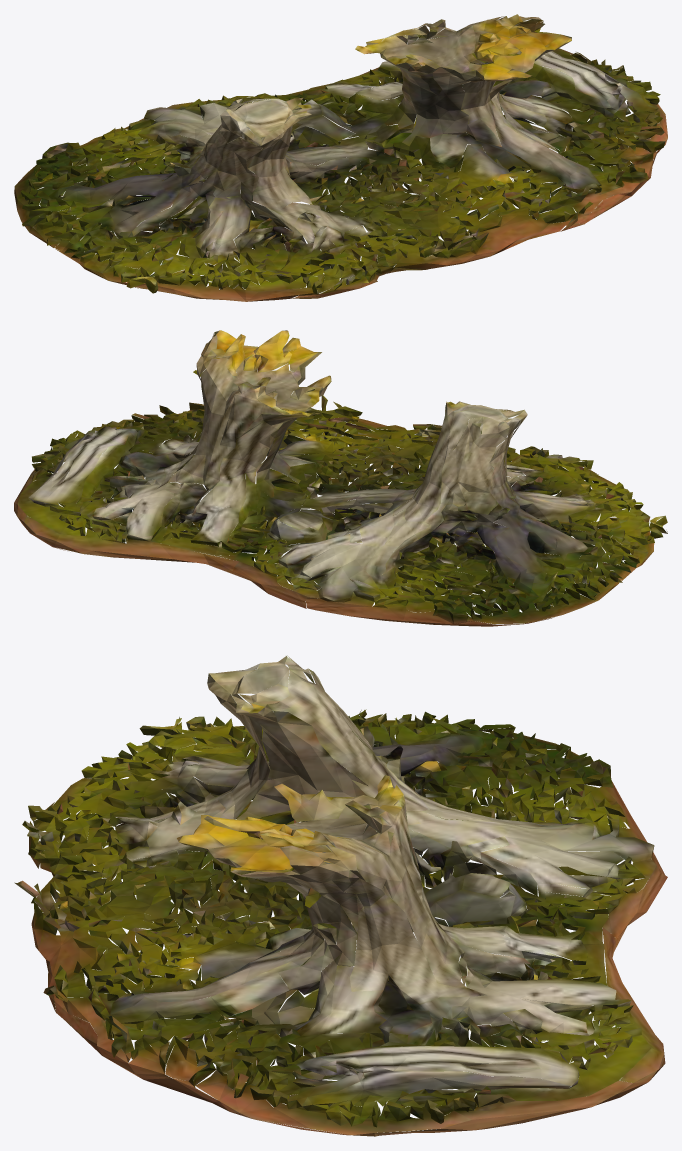
Rendered from wt-bog-stumps.glb.
3 renders of one model, top to bottom at view 1: azimuth 30°, elevation 25°; view 2: azimuth 150°, elevation 25°; view 3: azimuth 270°, elevation 25°, orthographic. The views are drawn at different scales.
Parts seen in each view (by area): view 1: tmp1mcstu46.ply; view 2: tmp1mcstu46.ply; view 3: tmp1mcstu46.ply.
Boxes of the visible parts, x1,y1,x2,y2 form: tmp1mcstu46.ply: (14, 14, 667, 301); tmp1mcstu46.ply: (14, 330, 667, 626); tmp1mcstu46.ply: (14, 655, 667, 1136).
Bounding box in the file's own units: 4 × 0.88 × 2.65.
1 material, 1 textured.
